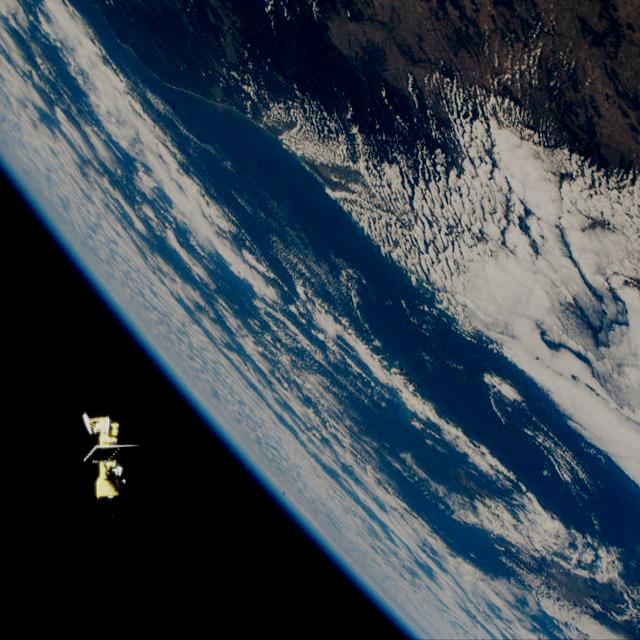satellite: (75, 403, 162, 517)
